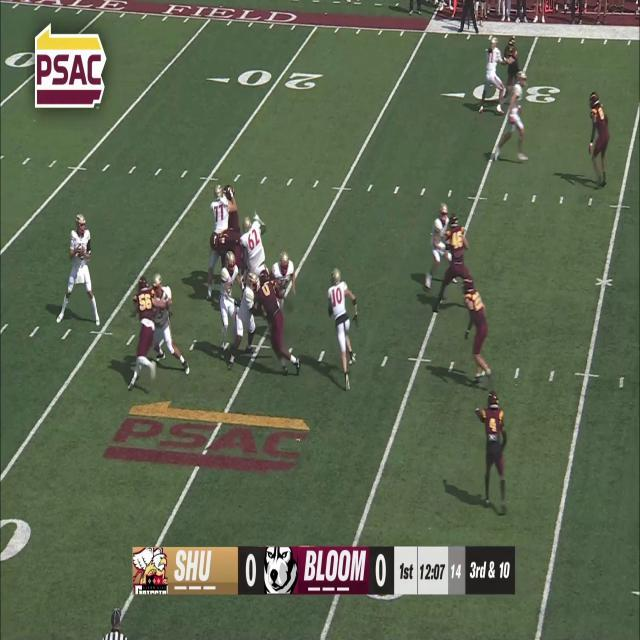football: (78, 244, 84, 260)
